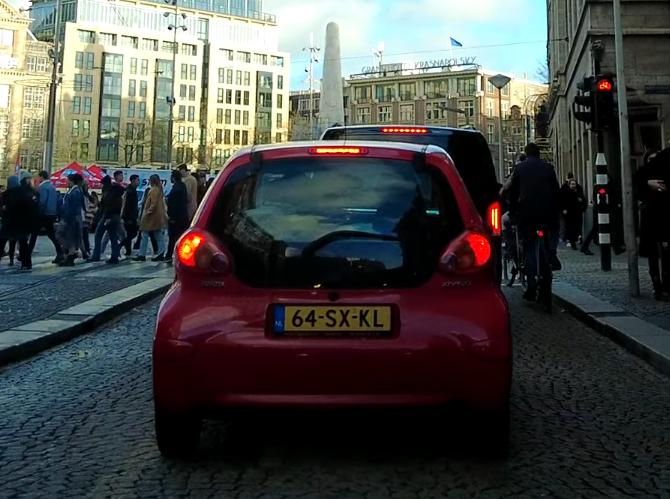license-plate: (274, 305, 397, 336)
